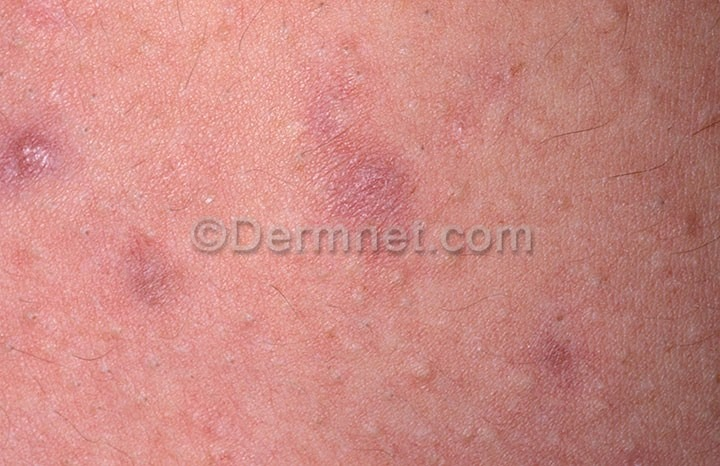Acne: (10, 85, 630, 395)
